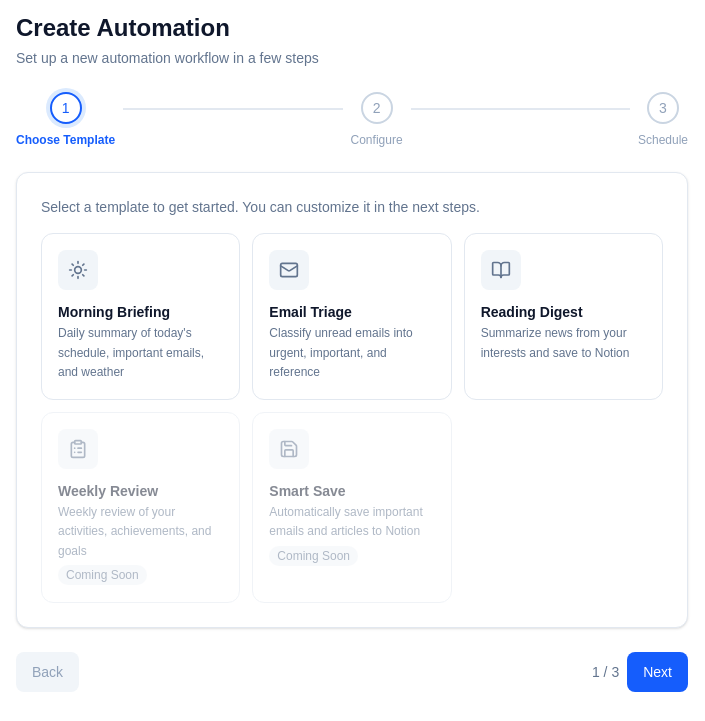
Test: NewAutomationPage — TC-3001, TC-3002 › TC-3001: Create automation form validation › clicking Next without selecting a template shows validation error
// Choose Template — nothing selected
Click the button with aria-label "go to next step" at (658, 672), box [627,652,688,692]
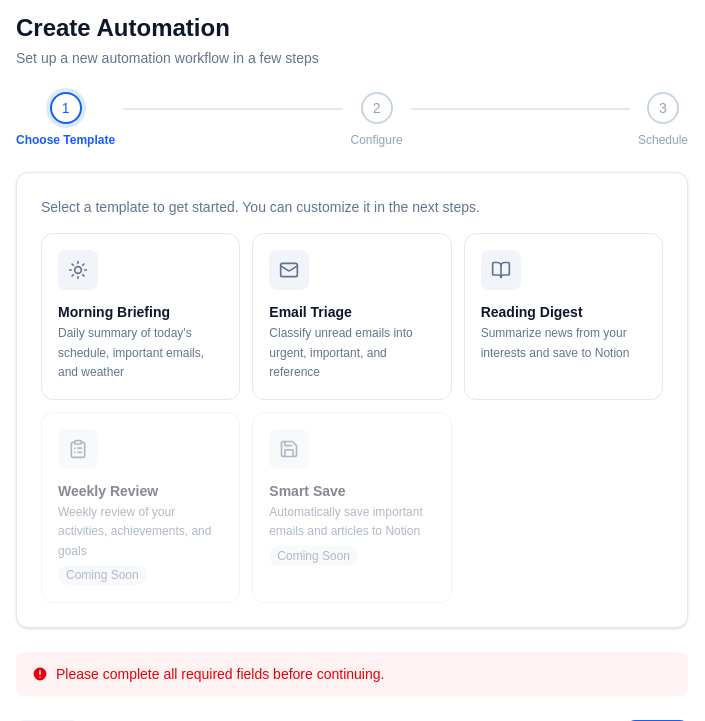
Now the message reads "Please complete all required fields before continuing.", box [56,666,384,682]
